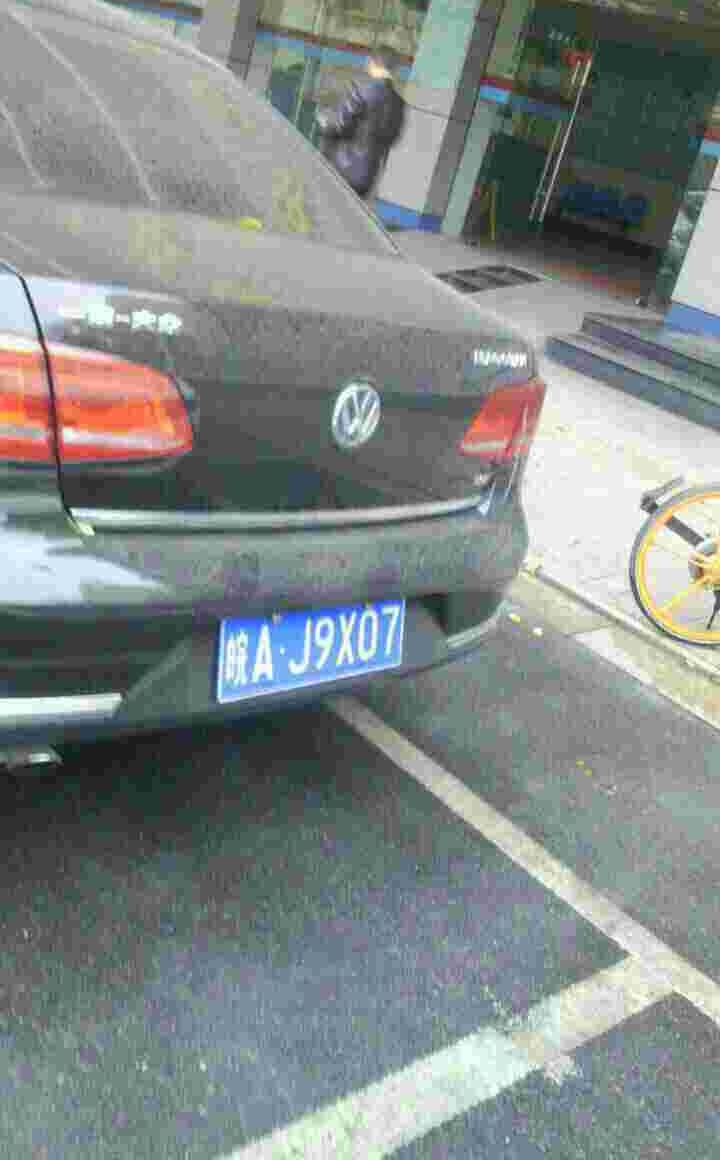car: (208, 613, 413, 689)
